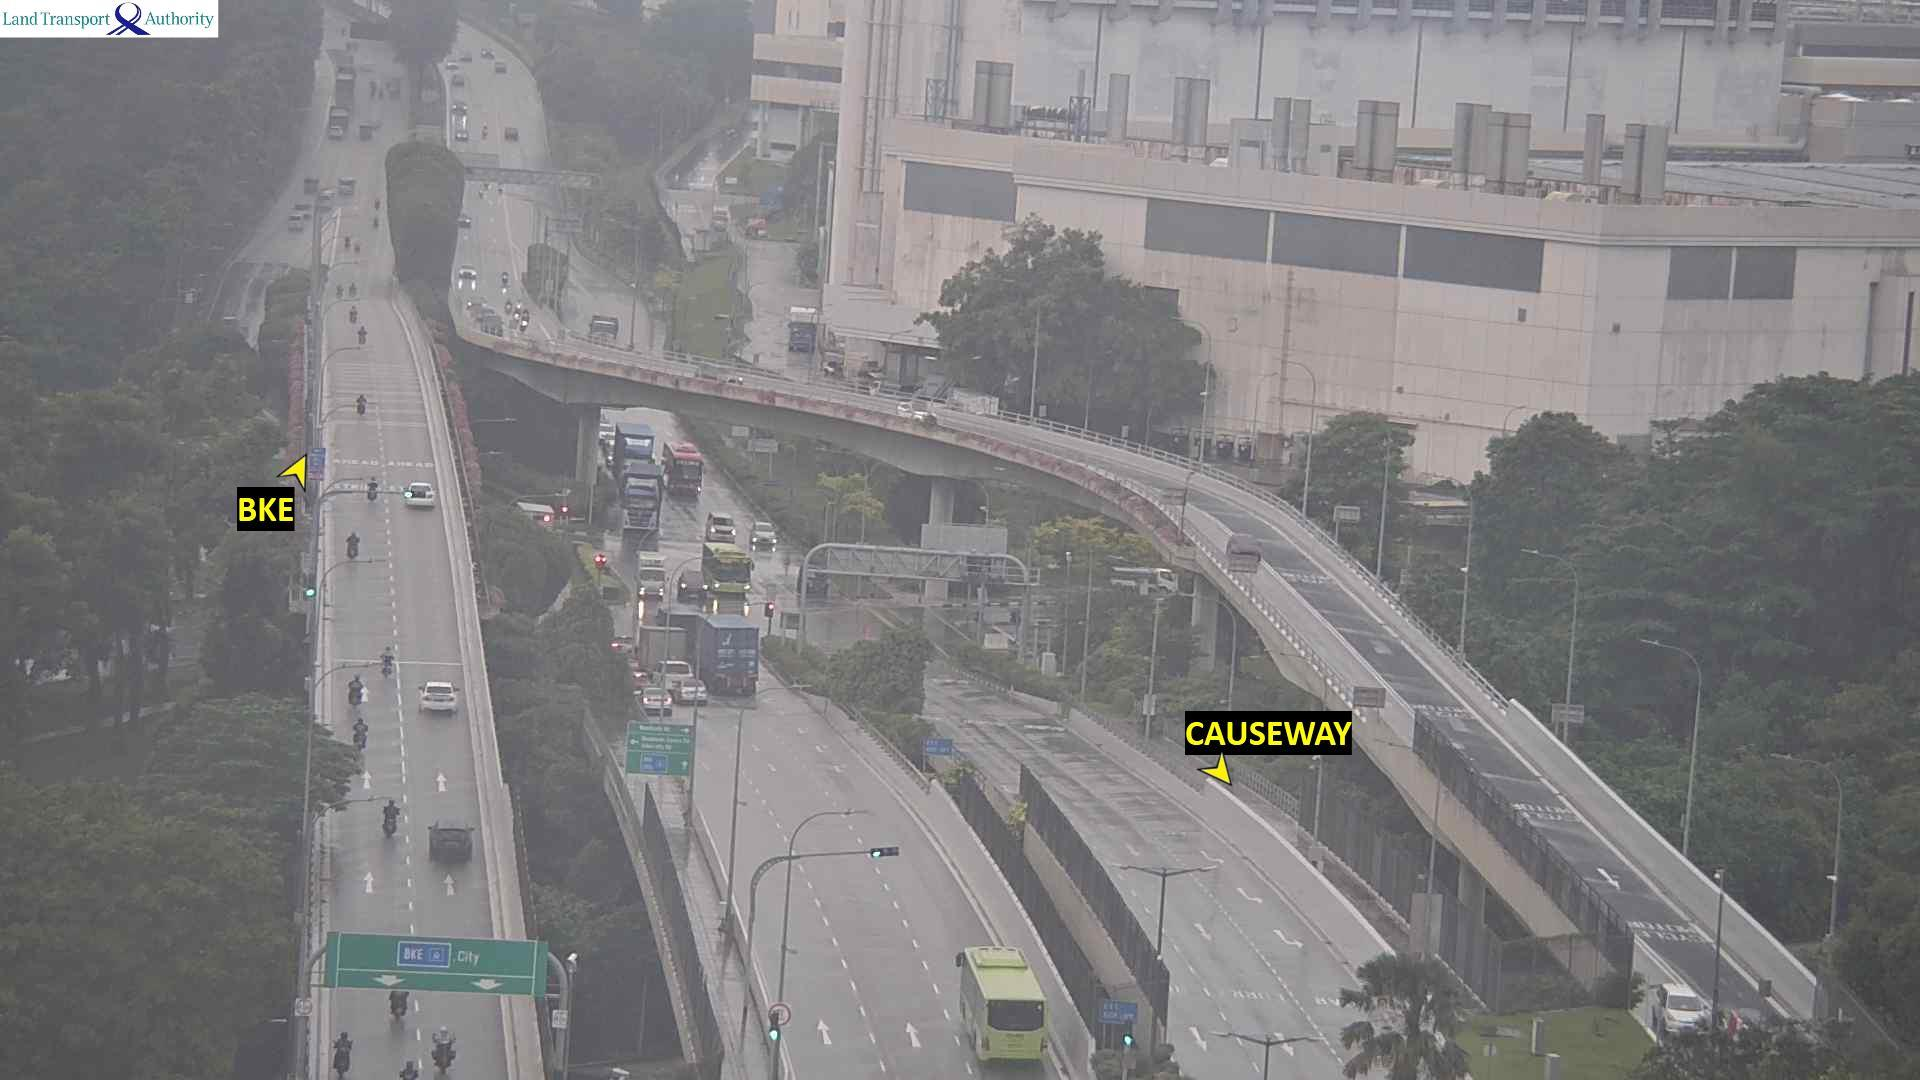vehicle-causeway-johor: (1659, 984, 1713, 1036), (663, 443, 700, 495), (703, 512, 732, 539), (749, 520, 774, 547), (483, 315, 504, 335), (497, 268, 513, 285), (455, 269, 472, 284), (521, 307, 529, 331), (504, 301, 512, 313)
vehicle-causeway-singapore: (960, 945, 1044, 1064), (694, 622, 765, 690), (426, 823, 477, 862), (653, 659, 692, 688), (418, 687, 460, 712), (641, 688, 671, 716), (430, 1034, 450, 1069), (421, 696, 455, 716), (392, 993, 409, 1026), (682, 682, 709, 702), (384, 799, 402, 828), (405, 493, 434, 509), (360, 723, 378, 746), (385, 814, 401, 841), (380, 647, 393, 678), (355, 683, 371, 705), (355, 393, 368, 419), (345, 535, 357, 560), (405, 1062, 422, 1079), (363, 328, 377, 344), (365, 481, 372, 501)
